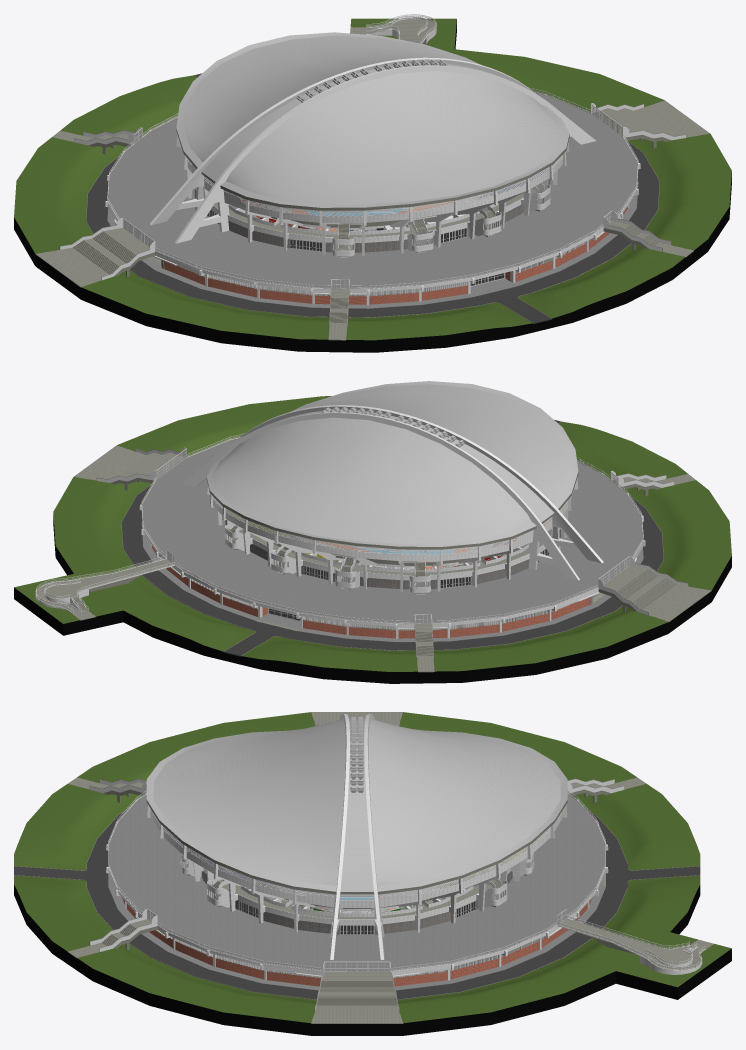
The model's file is indoor_arena_inside_out_improved_version.glb.
3 views of the same model, one above another, from view 1: azimuth 30°, elevation 25°; view 2: azimuth 150°, elevation 25°; view 3: azimuth 270°, elevation 25° (orthographic). The views are drawn at different scales.
Visible parts, largest first — view 1: Object_47, Object_45, Object_37, Object_86, Object_4, Object_28, Object_87, Object_30, Object_21, Object_36, Object_23, Object_11 (+12 smaller); view 2: Object_47, Object_45, Object_37, Object_86, Object_28, Object_4, Object_87, Object_30, Object_36, Object_21, Object_23, Object_11 (+12 smaller); view 3: Object_47, Object_45, Object_37, Object_4, Object_86, Object_28, Object_36, Object_30, Object_23, Object_21, Object_11, Object_87 (+11 smaller).
Part boxes in pixels (x1=…): Object_47: x1=176, y1=32, x2=569, y2=207; Object_45: x1=14, y1=18, x2=731, y2=340; Object_37: x1=107, y1=93, x2=638, y2=308; Object_86: x1=14, y1=20, x2=731, y2=352; Object_4: x1=86, y1=73, x2=659, y2=324; Object_28: x1=35, y1=18, x2=709, y2=322; Object_87: x1=150, y1=57, x2=595, y2=243; Object_30: x1=59, y1=104, x2=686, y2=328; Object_21: x1=60, y1=94, x2=685, y2=327; Object_36: x1=180, y1=143, x2=562, y2=241; Object_23: x1=107, y1=92, x2=638, y2=294; Object_11: x1=163, y1=206, x2=627, y2=304; Object_47: x1=207, y1=381, x2=578, y2=546; Object_45: x1=14, y1=396, x2=731, y2=671; Object_37: x1=141, y1=438, x2=643, y2=642; Object_86: x1=14, y1=515, x2=731, y2=683; Object_28: x1=36, y1=421, x2=711, y2=655; Object_4: x1=121, y1=420, x2=663, y2=656; Object_87: x1=181, y1=405, x2=603, y2=580; Object_30: x1=96, y1=448, x2=688, y2=660; Object_36: x1=213, y1=486, x2=574, y2=578; Object_21: x1=97, y1=439, x2=688, y2=657; Object_23: x1=141, y1=437, x2=643, y2=629; Object_11: x1=151, y1=545, x2=590, y2=638; Object_47: x1=146, y1=718, x2=567, y2=891; Object_45: x1=14, y1=712, x2=731, y2=1023; Object_37: x1=108, y1=794, x2=605, y2=990; Object_4: x1=14, y1=808, x2=700, y2=999; Object_86: x1=14, y1=864, x2=731, y2=1035; Object_28: x1=14, y1=712, x2=701, y2=1023; Object_36: x1=150, y1=810, x2=563, y2=922; Object_30: x1=89, y1=720, x2=624, y2=1011; Object_23: x1=108, y1=793, x2=605, y2=977; Object_21: x1=90, y1=721, x2=624, y2=1010; Object_11: x1=122, y1=897, x2=592, y2=986; Object_87: x1=330, y1=713, x2=384, y2=959.
Size of the model in its own units: 207 by 43.17 by 202.
41 materials, 25 textured.
